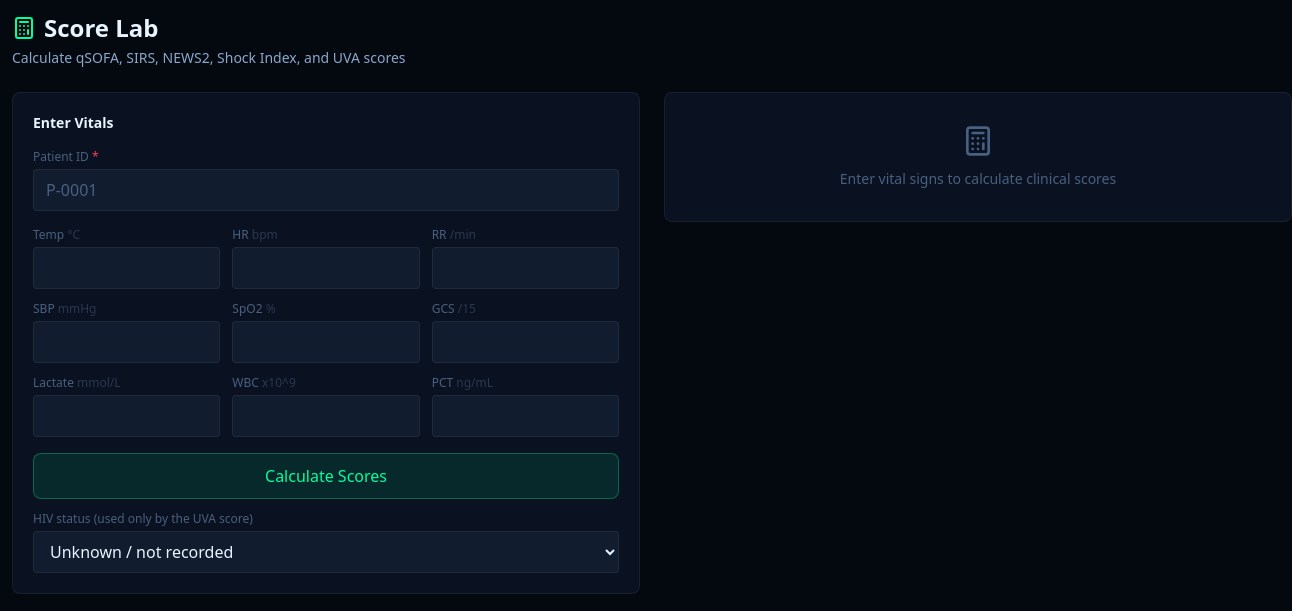
Test case: ScoreLab › shows the published UVA band, what was not measured, and its source
Type "synthetic-uva" into the field labelled "Patient ID *".
click(326, 190); type("synthetic-uva")  # box top-left (33, 169), bottom-right (619, 211)
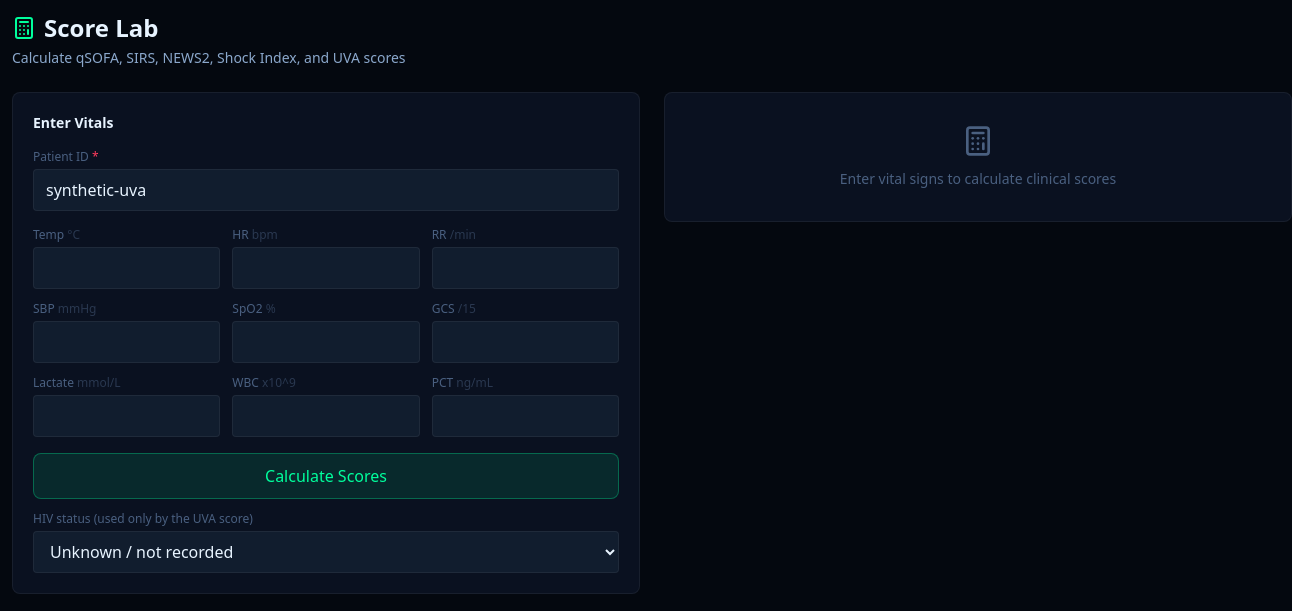
Type "125" into the number field labelled "HR bpm".
click(326, 268); type("125")  # box top-left (232, 247), bottom-right (420, 289)
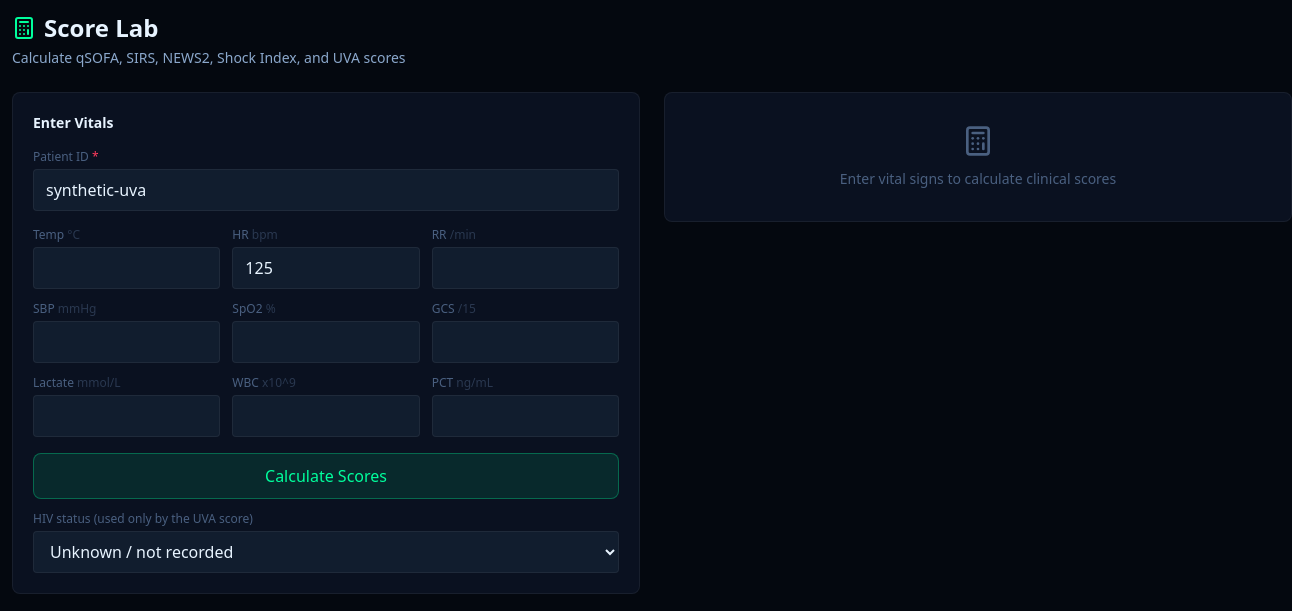
Type "31" into the number field labelled "RR /min".
click(525, 268); type("31")  # box top-left (432, 247), bottom-right (619, 289)
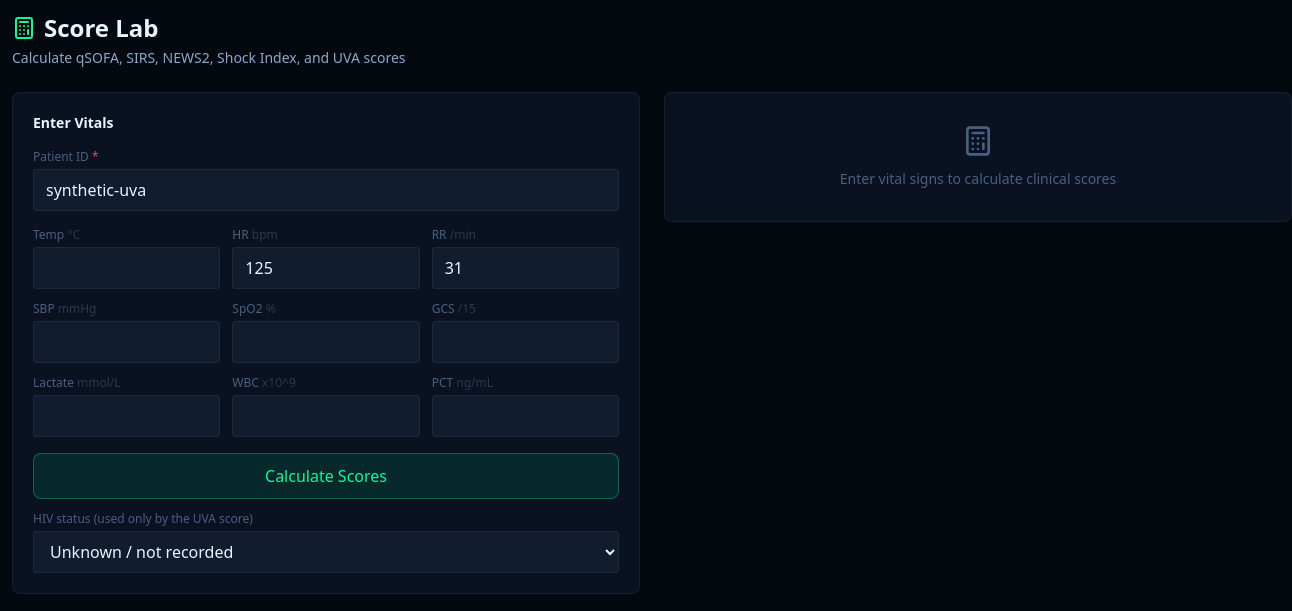
Type "85" into the number field labelled "SBP mmHg".
click(127, 342); type("85")  # box top-left (33, 321), bottom-right (220, 363)
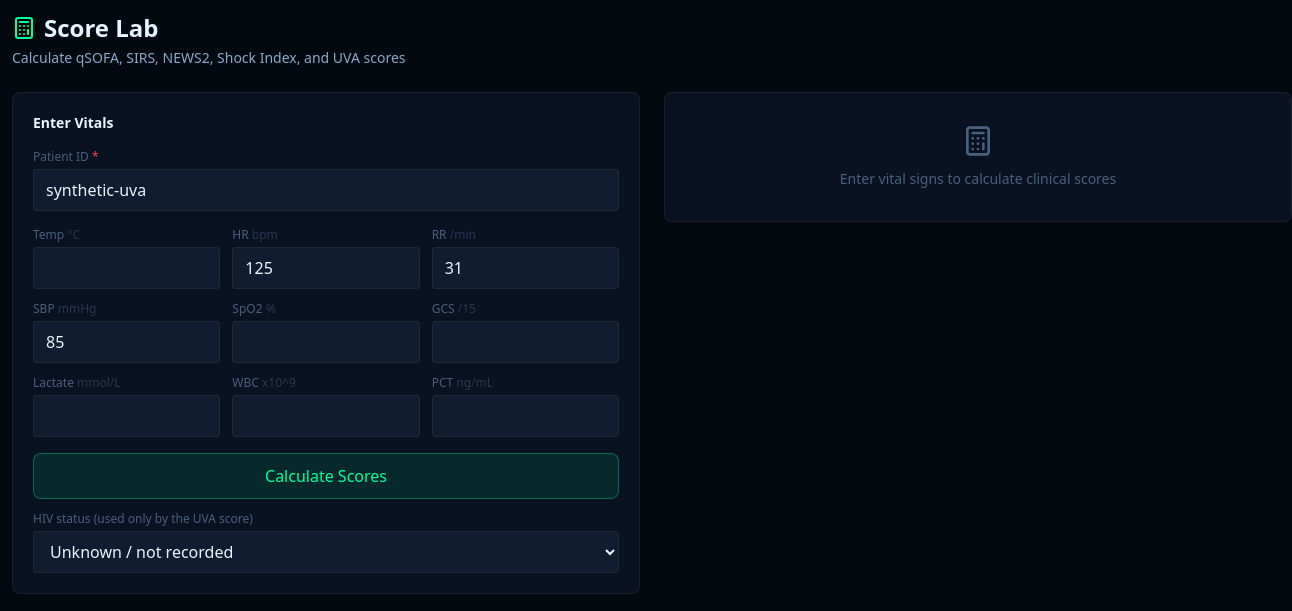
Click the button "Calculate Scores".
click(326, 476)  # box top-left (33, 453), bottom-right (619, 499)
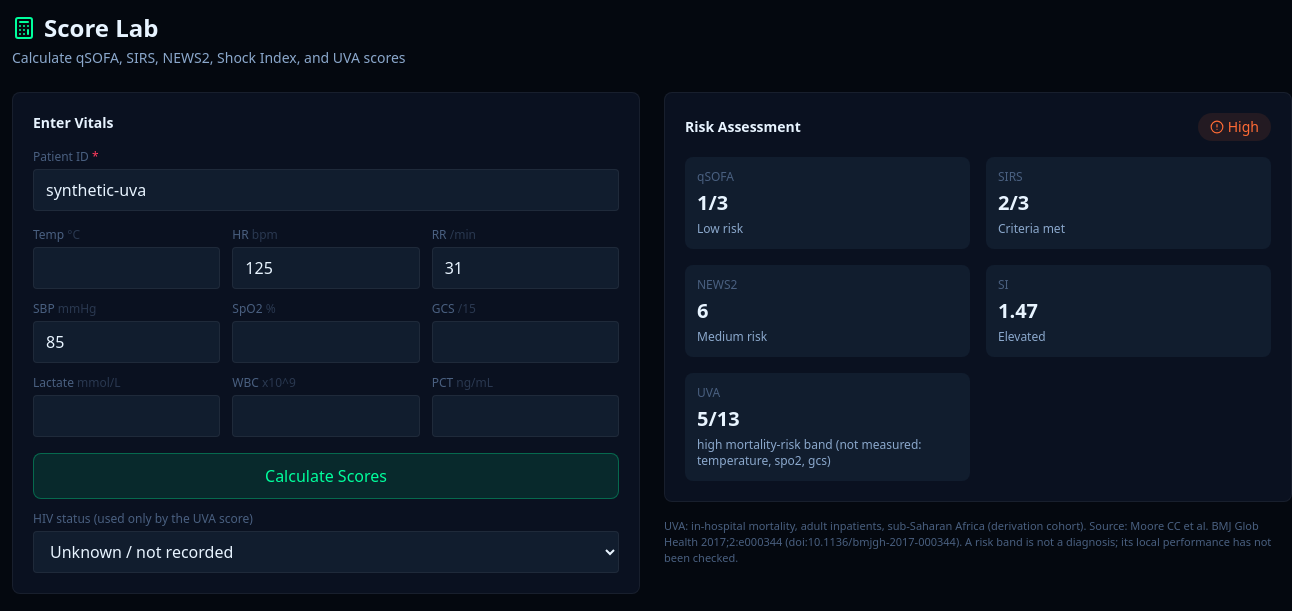
Expected: the text "5/13" is shown, top-left (697, 405), bottom-right (740, 432)
Expected: the text "high mortality-risk band (not measured: temperature, spo2, gcs)" is shown, top-left (697, 437), bottom-right (958, 469)
Expected: the text with test id "uva-source" shows "bmjgh-2017-000344", top-left (664, 518), bottom-right (1259, 549)
